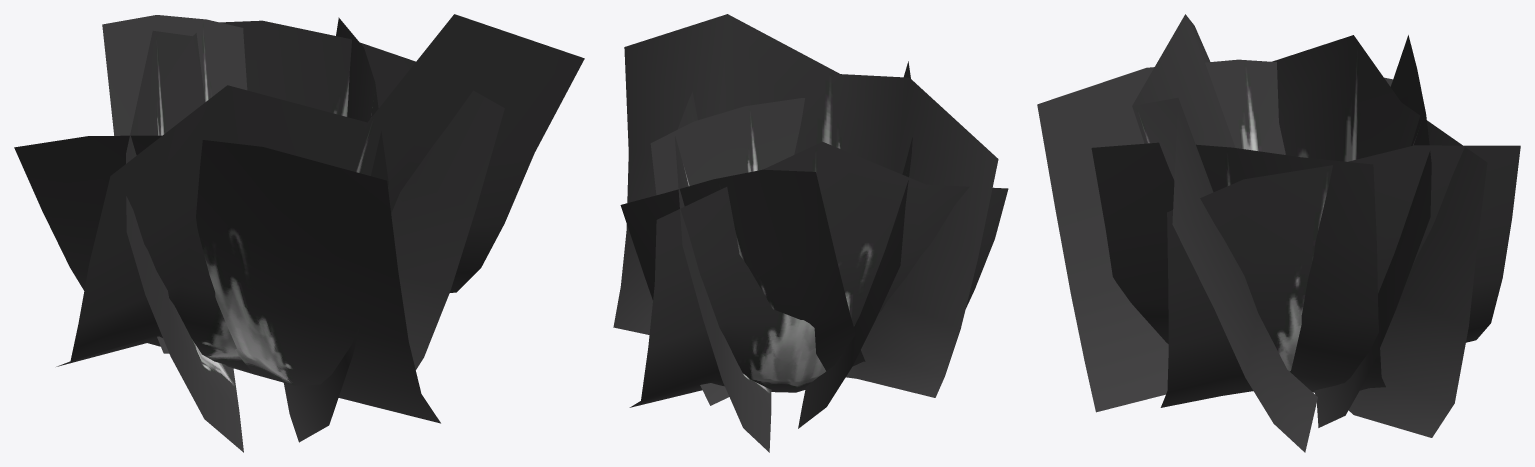
File: juxiangguai-skill3-bob2.FBX
3 views of the same model, side by side, from view 1: azimuth 30°, elevation 25°; view 2: azimuth 150°, elevation 25°; view 3: azimuth 270°, elevation 25° (orthographic). The views are drawn at different scales.
Visible parts, largest first — view 1: zhujue_fg_skill3_bob2; view 2: zhujue_fg_skill3_bob2; view 3: zhujue_fg_skill3_bob2.
Boxes of the visible parts, x1,y1,x2,y2 form: zhujue_fg_skill3_bob2: (14,14,584,452); zhujue_fg_skill3_bob2: (613,14,1008,452); zhujue_fg_skill3_bob2: (1037,14,1520,452).
Size of the model in its own units: 445 by 341 by 430.
